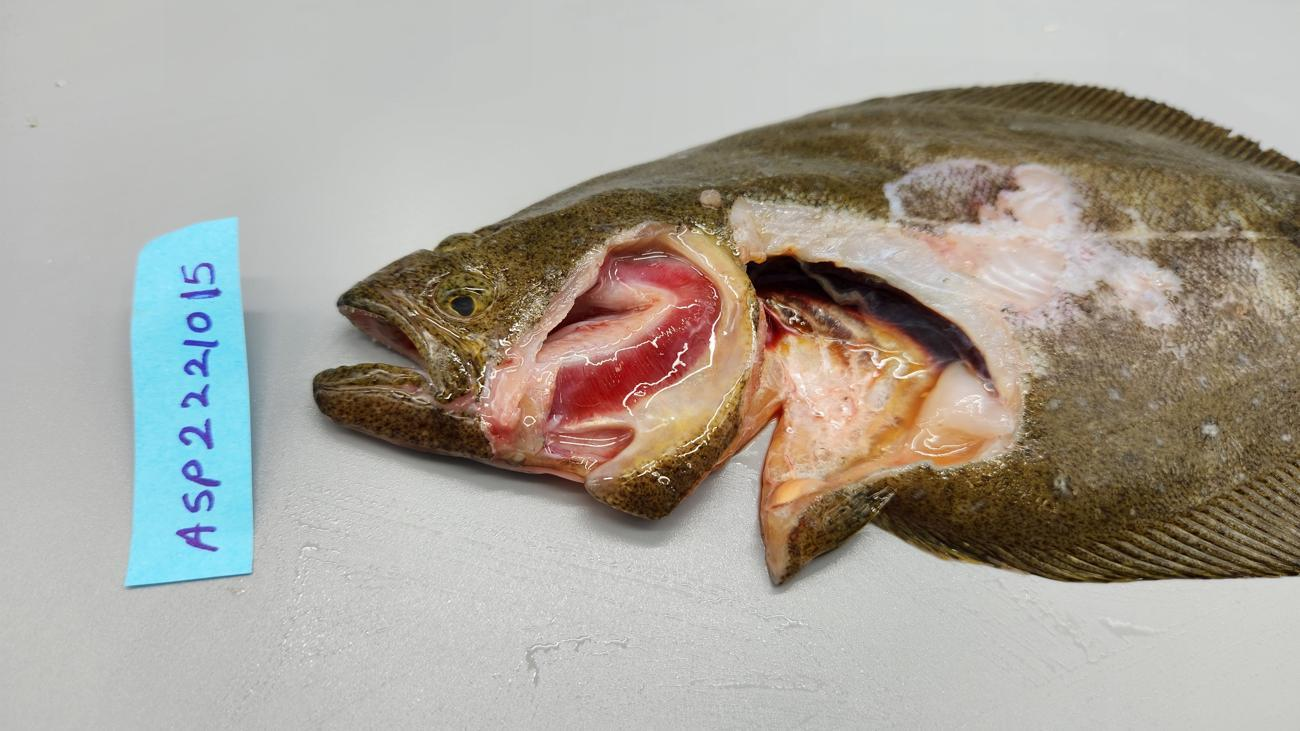SPASQ: (727, 294, 944, 486)
